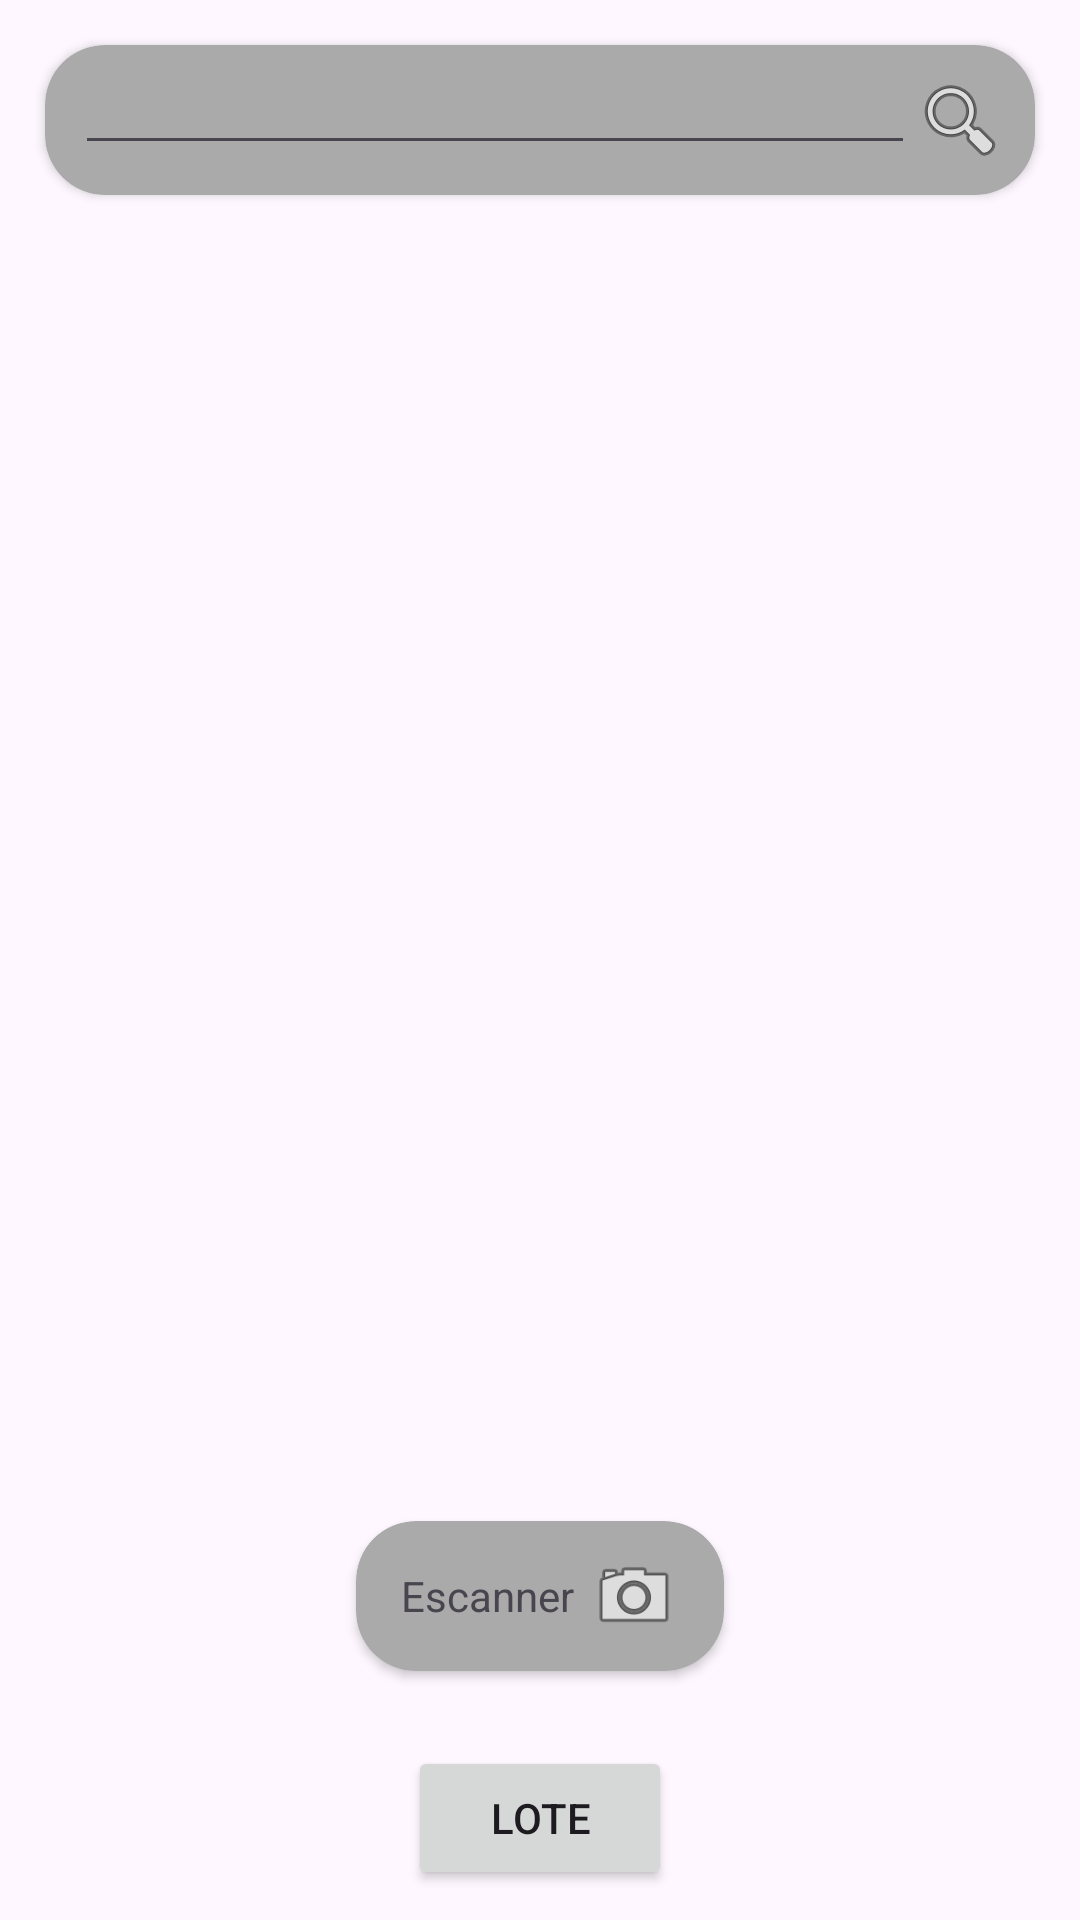

Where to tap for icons on this 1080px×1920px app screen, as point (x, y):
camera: point (634, 1594)
search: point (960, 120)
